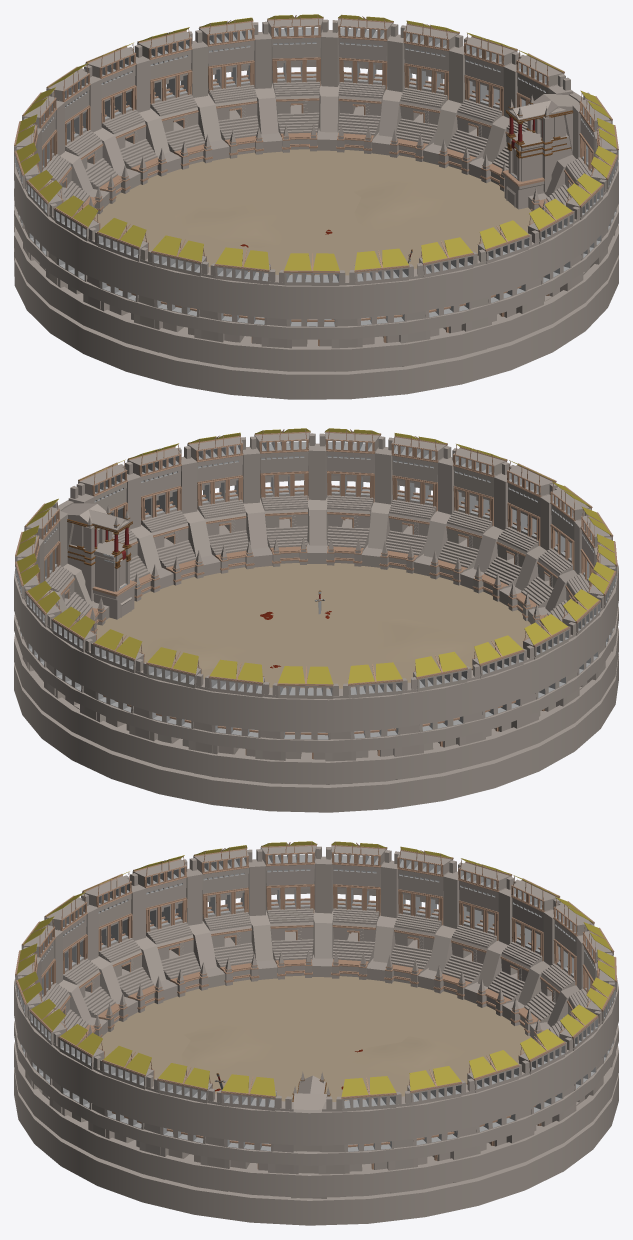
Rendered from arena.fbx.
3 views of the same model, one above another, from view 1: azimuth 30°, elevation 25°; view 2: azimuth 150°, elevation 25°; view 3: azimuth 270°, elevation 25° (orthographic).
Parts seen in each view (by area): view 1: pCylinder1, pCylinder12, pCylinder13, pCylinder16, pCylinder14, pCylinder15, pCube267, polySurface50, polySurface51, polySurface49, polySurface52, polySurface48 (+39 smaller); view 2: pCylinder1, pCylinder12, pCylinder13, pCylinder16, pCylinder14, pCylinder15, pCube267, polySurface33, polySurface32, polySurface34, polySurface31, polySurface30 (+40 smaller); view 3: pCylinder1, pCylinder12, pCylinder13, pCylinder16, pCylinder14, pCylinder15, polySurface41, polySurface42, polySurface40, polySurface43, polySurface39, polySurface44 (+40 smaller).
Part boxes in pixels (box(x1,y1,x2,y2)): pCylinder1: box(95, 149, 533, 275); pCylinder12: box(14, 236, 618, 399); pCylinder13: box(14, 210, 618, 370); pCylinder16: box(14, 91, 618, 307); pCylinder14: box(14, 77, 618, 339); pCylinder15: box(14, 62, 618, 319); pCube267: box(502, 94, 579, 209); polySurface50: box(267, 14, 323, 149); polySurface51: box(338, 14, 393, 150); polySurface49: box(198, 17, 258, 154); polySurface52: box(396, 20, 459, 158); polySurface48: box(137, 27, 204, 164); pCylinder1: box(96, 563, 530, 687); pCylinder12: box(14, 654, 618, 812); pCylinder13: box(14, 627, 618, 784); pCylinder16: box(14, 500, 618, 720); pCylinder14: box(14, 492, 618, 752); pCylinder15: box(14, 475, 618, 732); pCube267: box(61, 503, 136, 619); polySurface33: box(324, 428, 381, 563); polySurface32: box(254, 428, 310, 563); polySurface34: box(386, 433, 447, 569); polySurface31: box(187, 432, 248, 569); polySurface30: box(127, 443, 196, 580); pCylinder1: box(98, 975, 530, 1101); pCylinder12: box(14, 1069, 618, 1225); pCylinder13: box(14, 1042, 618, 1197); pCylinder16: box(14, 978, 618, 1134); pCylinder14: box(14, 909, 618, 1165); pCylinder15: box(14, 888, 618, 1145); polySurface41: box(260, 841, 317, 976); polySurface42: box(331, 841, 387, 977); polySurface40: box(193, 845, 253, 981); polySurface43: box(391, 846, 453, 983); polySurface39: box(132, 855, 200, 991); polySurface44: box(442, 858, 512, 994).
Bounding box in the file's own units: 42.77 × 42.77 × 10.72.
